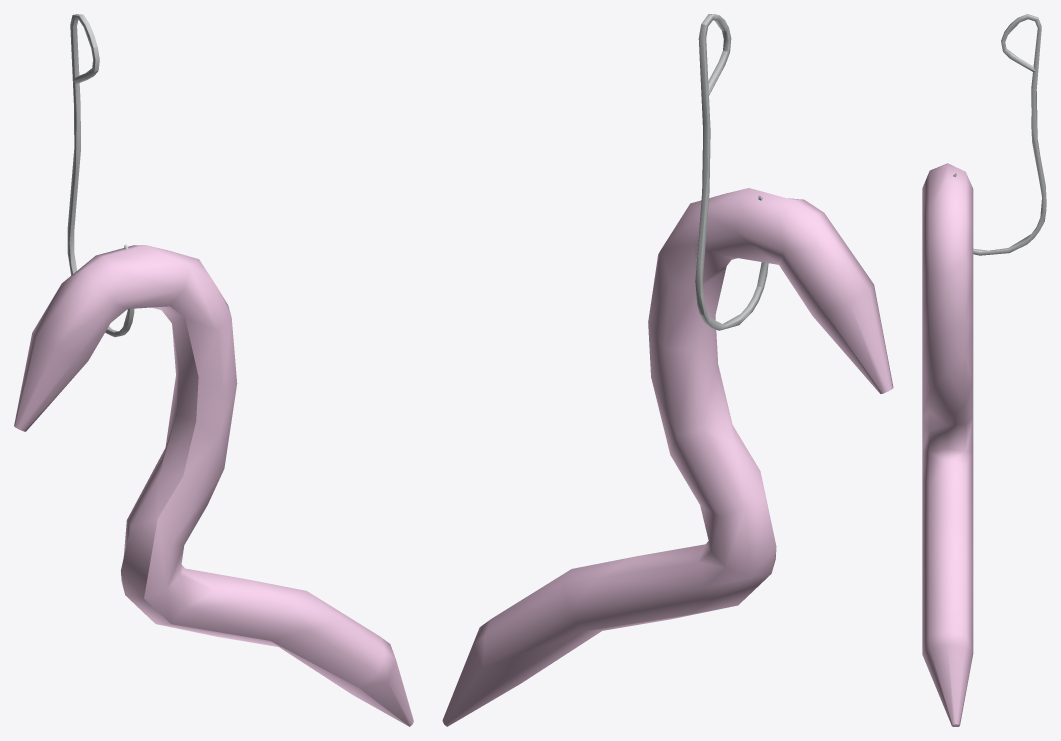
Rendered from hacek_zizala.glb.
3 views of the same model, side by side, from view 1: azimuth 30°, elevation 25°; view 2: azimuth 150°, elevation 25°; view 3: azimuth 270°, elevation 25° (orthographic). The views are drawn at different scales.
Parts seen in each view (by area): view 1: hacek_zizala; view 2: hacek_zizala; view 3: hacek_zizala.
Part boxes in pixels (x1,y1,x2,y2): hacek_zizala: (14,14,413,726); hacek_zizala: (442,14,893,726); hacek_zizala: (922,14,1046,726).
Bounding box in the file's own units: 0.3041 × 0.5387 × 0.1011.
